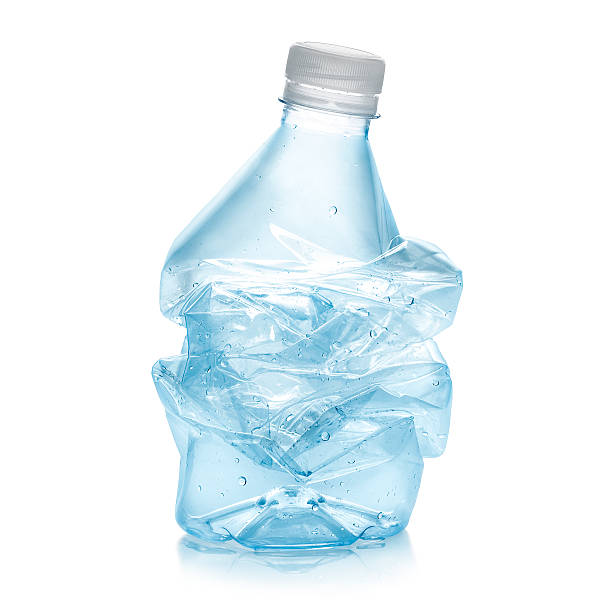plastic_bottle: (149, 39, 466, 550)
